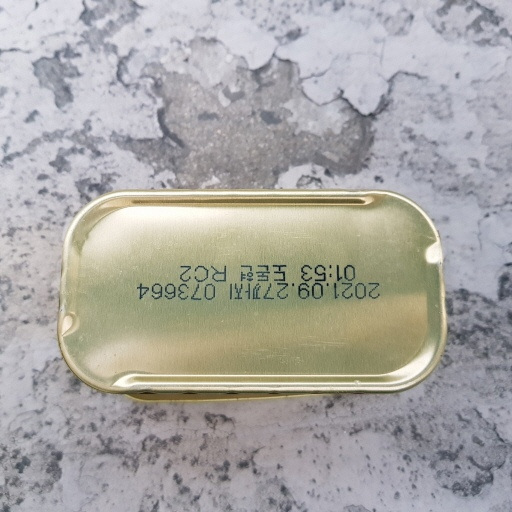Metal_2: (58, 189, 451, 406)
